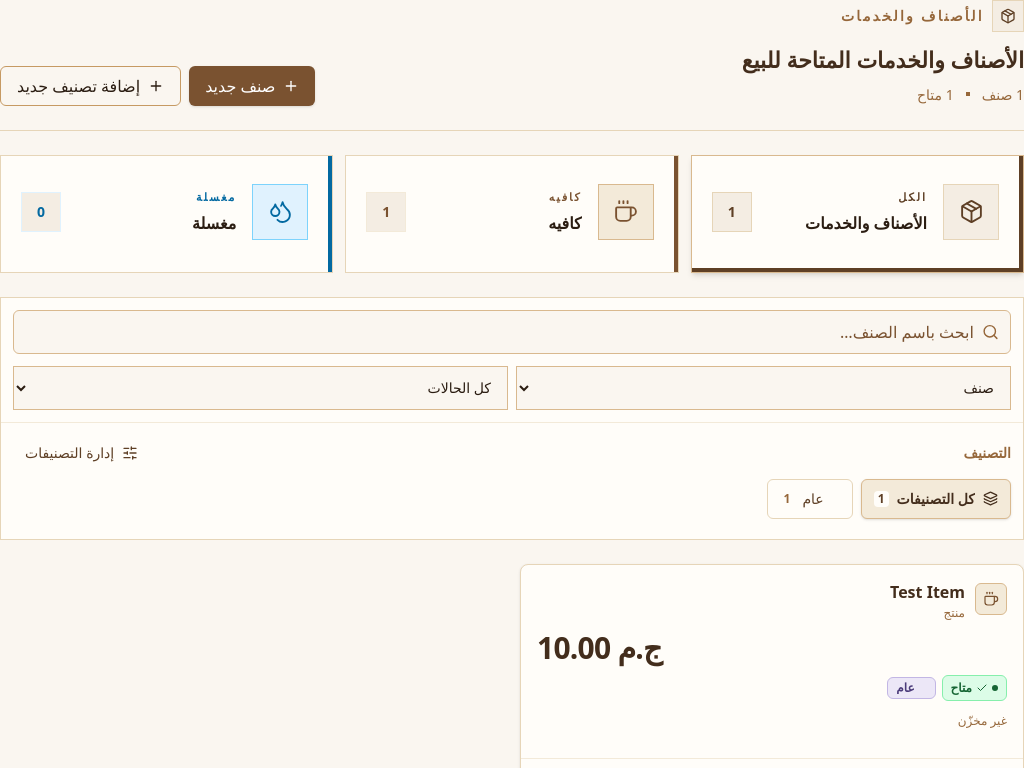
CatalogPage category and stock UI › requires a category and only reveals stock quantity when tracking is on
Check: the heading "Test Item" is shown, box top-left (890, 581), bottom-right (965, 603)
Click the button "صنف جديد" at coordinates (252, 86), box top-left (189, 66), bottom-right (315, 106)
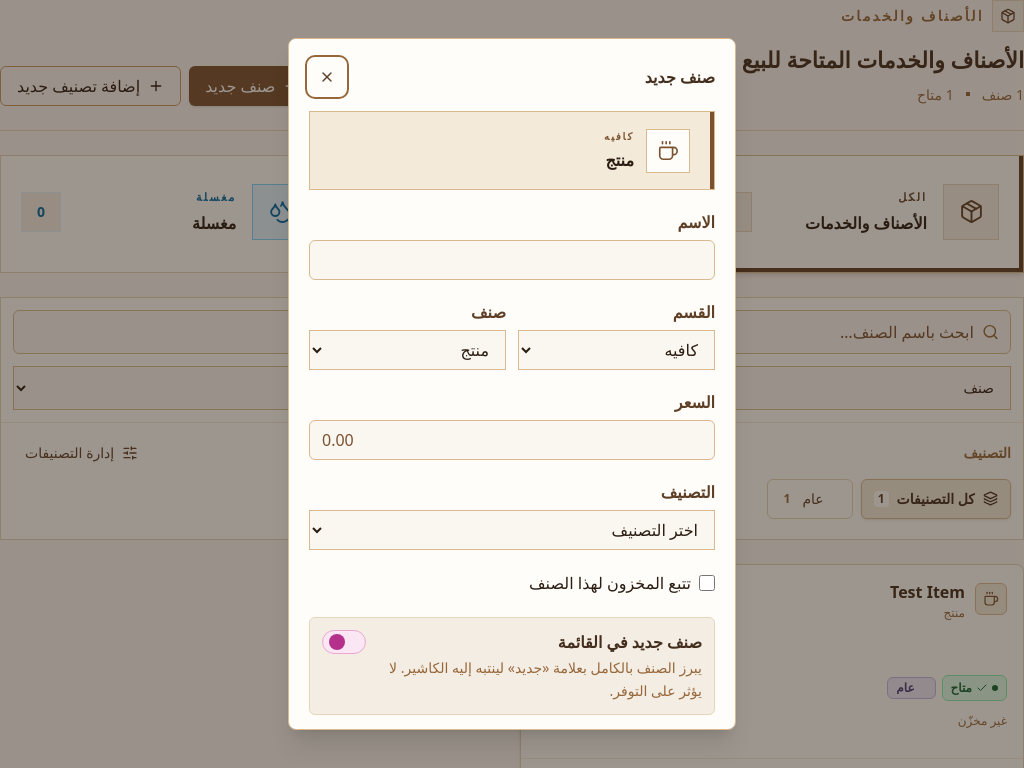
Type "New Item" into the field labelled "الاسم" at coordinates (512, 260), box top-left (309, 240), bottom-right (715, 280)
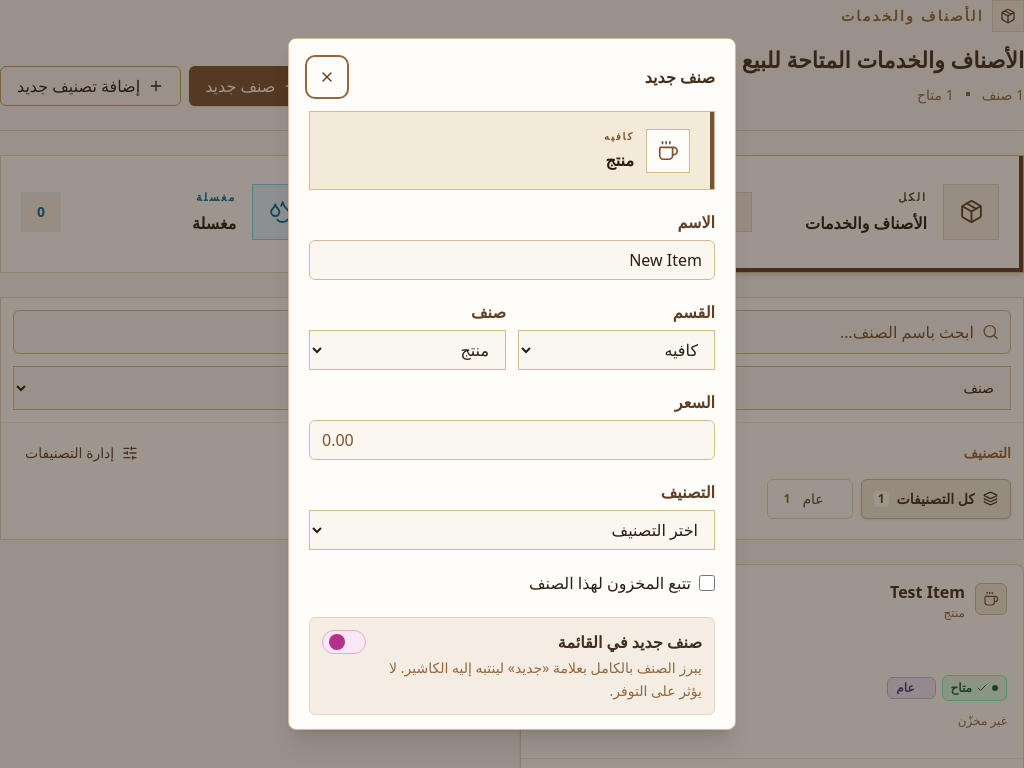
Type "10" into the field labelled "السعر" at coordinates (512, 440), box top-left (309, 420), bottom-right (715, 460)
(page scrolled)
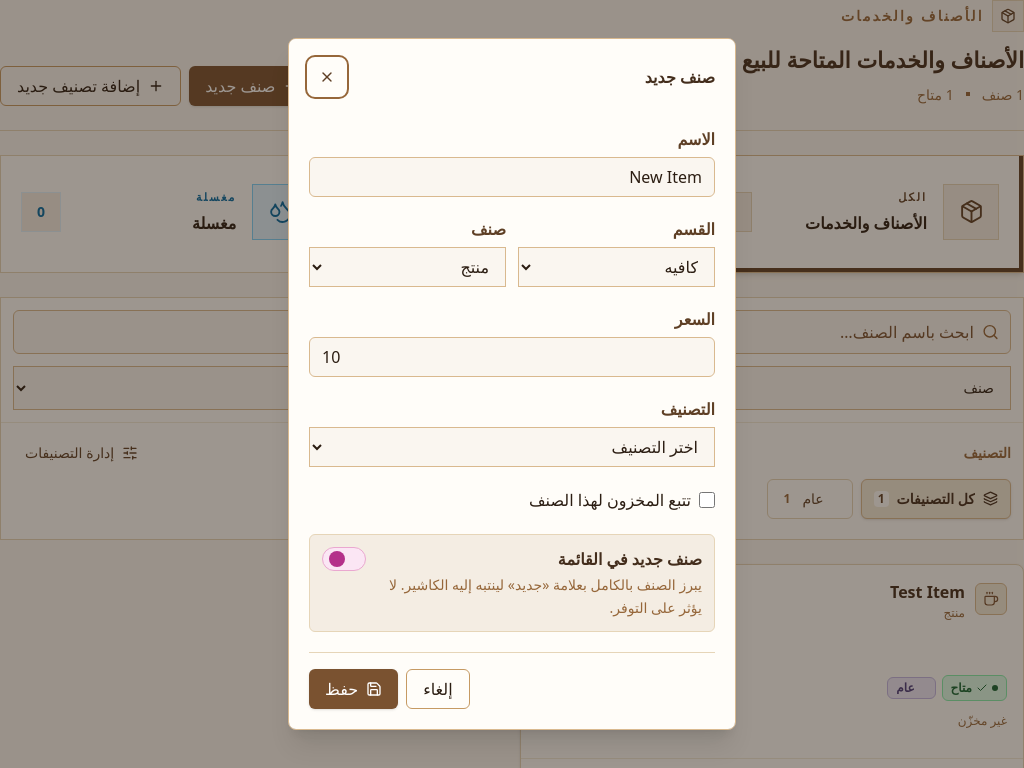
Click the button "حفظ" at coordinates (354, 689), box top-left (309, 669), bottom-right (398, 709)
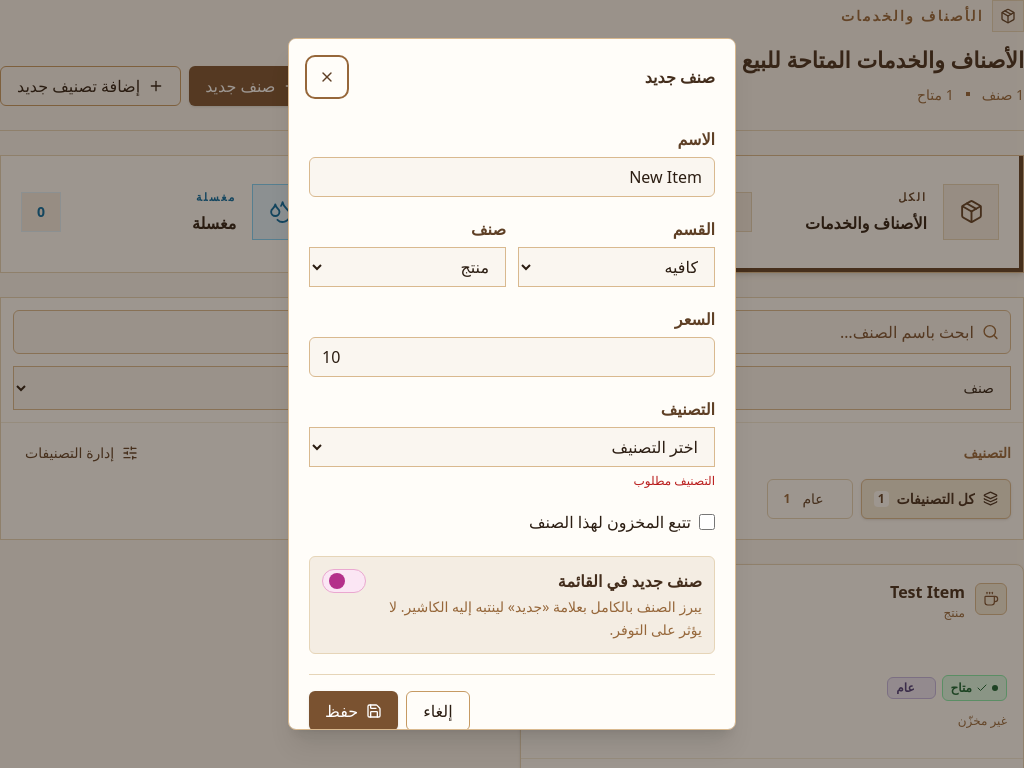
Check: the text "التصنيف مطلوب" is shown, box top-left (634, 472), bottom-right (715, 489)
